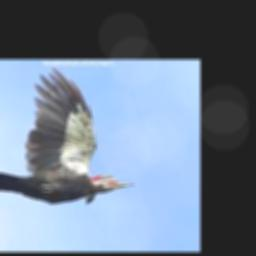Woodpecker: (0, 68, 135, 203)
